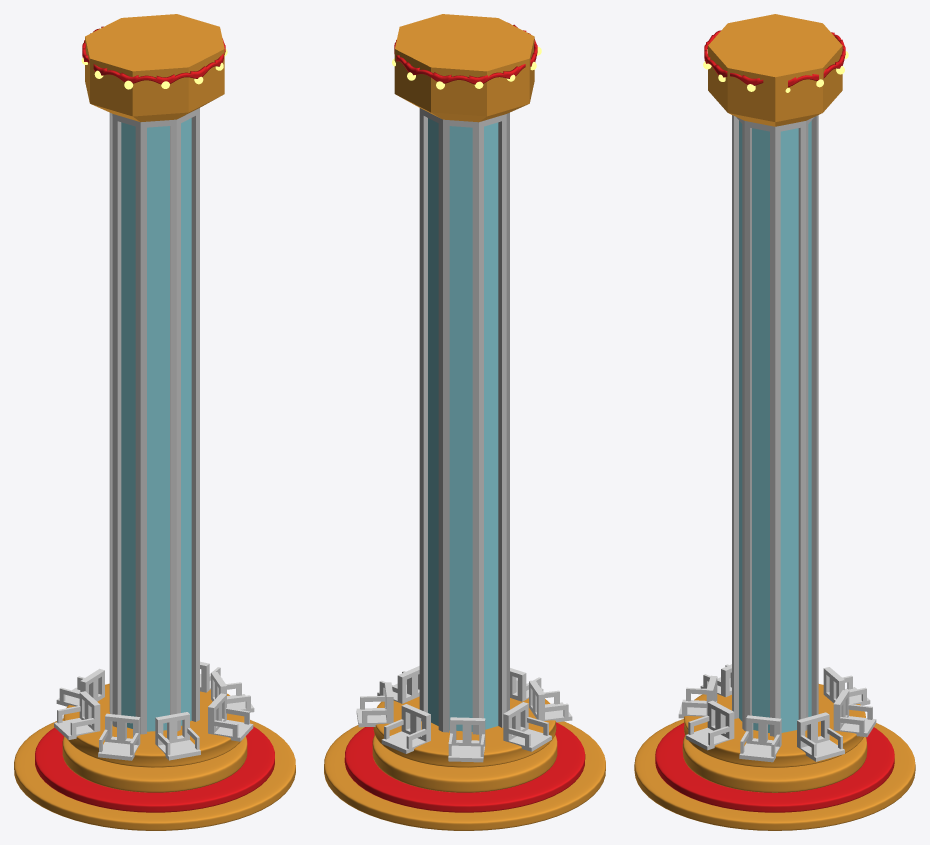
Rendered from sub_baja.glb.
3 views of the same model, side by side, from view 1: azimuth 30°, elevation 25°; view 2: azimuth 150°, elevation 25°; view 3: azimuth 270°, elevation 25° (orthographic).
Parts seen in each view (by area): view 1: Cylinder.003, Cylinder.002, Cylinder.001, Cylinder, Cylinder.005, Cube.004, Cube.003, Cube.002, Cube.005, Cylinder.004, Cube, Cube.006; view 2: Cylinder.003, Cylinder.002, Cylinder.001, Cylinder, Cylinder.005, Cube.001, Cube.002, Cube, Cylinder.004, Cube.003, Cube.007, Cube.006 (+1 smaller); view 3: Cylinder.003, Cylinder.002, Cylinder.001, Cylinder, Cylinder.005, Cube.007, Cube.005, Cube.006, Cube.001, Cylinder.004, Cube, Cube.004.
Part boxes in pixels (<box>): Cylinder.003: <box>85,14,224,734</box>; Cylinder.002: <box>14,718,295,830</box>; Cylinder.001: <box>35,726,274,812</box>; Cylinder: <box>62,736,247,792</box>; Cylinder.005: <box>63,683,244,767</box>; Cube.004: <box>155,712,200,760</box>; Cube.003: <box>98,713,140,760</box>; Cube.002: <box>54,691,100,739</box>; Cube.005: <box>208,693,253,741</box>; Cylinder.004: <box>81,26,227,89</box>; Cube: <box>56,668,104,706</box>; Cube.006: <box>211,672,254,712</box>; Cylinder.003: <box>394,14,534,734</box>; Cylinder.002: <box>324,721,605,830</box>; Cylinder.001: <box>344,722,585,812</box>; Cylinder: <box>372,735,557,792</box>; Cylinder.005: <box>373,696,556,767</box>; Cube.001: <box>381,704,430,753</box>; Cube.002: <box>503,702,551,751</box>; Cube: <box>448,717,485,762</box>; Cylinder.004: <box>392,23,541,89</box>; Cube.003: <box>529,680,572,722</box>; Cube.007: <box>356,682,393,727</box>; Cube.006: <box>377,666,419,703</box>; Cylinder.003: <box>708,14,842,736</box>; Cylinder.002: <box>634,719,915,830</box>; Cylinder.001: <box>655,723,894,812</box>; Cylinder: <box>682,735,867,792</box>; Cylinder.005: <box>684,684,865,767</box>; Cube.007: <box>797,712,844,761</box>; Cube.005: <box>685,700,734,750</box>; Cube.006: <box>739,715,781,762</box>; Cube.001: <box>833,690,876,737</box>; Cylinder.004: <box>703,30,848,92</box>; Cube: <box>823,667,870,705</box>; Cube.004: <box>678,675,717,718</box>.
Size of the model in its own units: 39.08 by 112 by 39.09.
